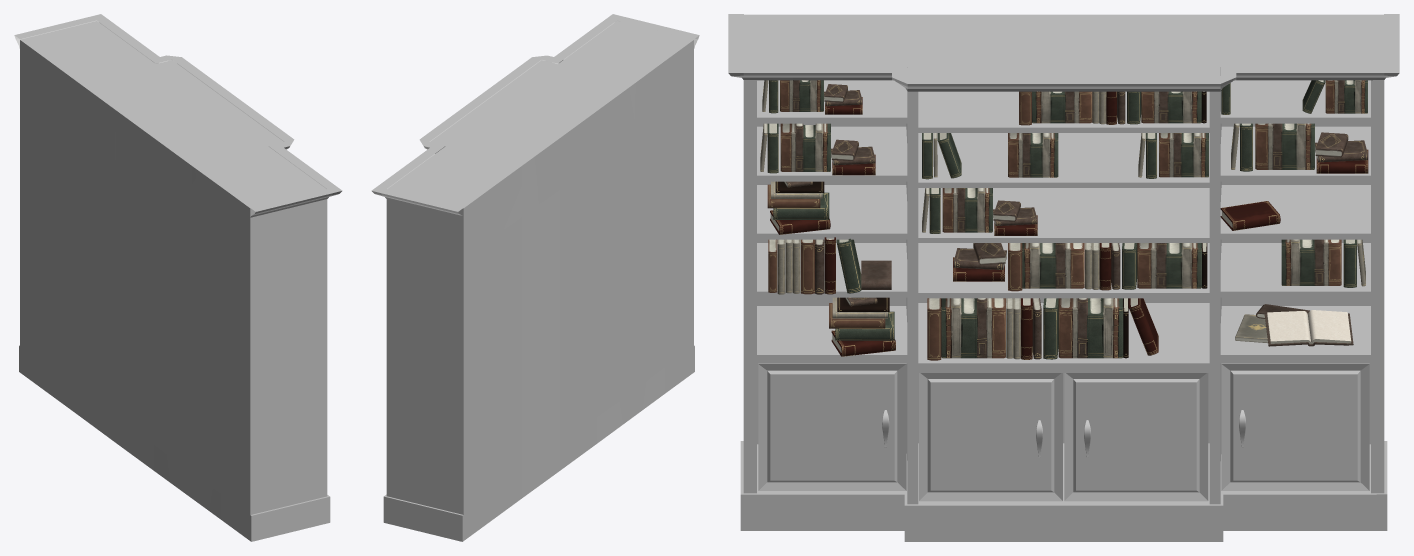
The model's file is bookshelf.fbx.
3 renders of one model, left to right at view 1: azimuth 30°, elevation 25°; view 2: azimuth 150°, elevation 25°; view 3: azimuth 270°, elevation 25°, orthographic. The views are drawn at different scales.
Parts seen in each view (by area): view 1: shkaff_obj_1_SHKAFF MAT_0; view 2: shkaff_obj_1_SHKAFF MAT_0; view 3: shkaff_obj_1_SHKAFF MAT_0, BOOKS_1_BOOKS_0.418, shkaff_obj_1_SHKAF ALBEDO_0.
Boxes of the visible parts, bbox=[...] form: shkaff_obj_1_SHKAFF MAT_0: bbox=[14, 14, 342, 541]; shkaff_obj_1_SHKAFF MAT_0: bbox=[371, 14, 699, 541]; shkaff_obj_1_SHKAFF MAT_0: bbox=[728, 14, 1399, 541]; BOOKS_1_BOOKS_0.418: bbox=[760, 80, 1368, 360]; shkaff_obj_1_SHKAF ALBEDO_0: bbox=[882, 410, 1245, 457].
Bounding box in the file's own units: 124 × 382 × 501.
